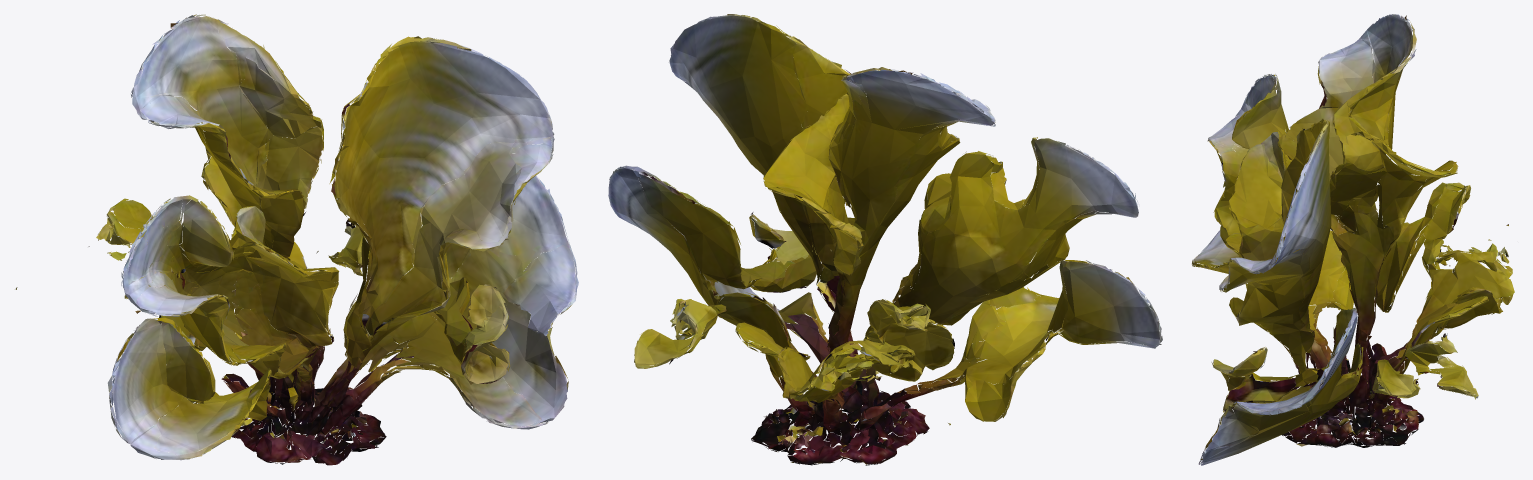
The model's file is padina.glb.
The picture shows the model from 3 angles, left to right: view 1: azimuth 30°, elevation 25°; view 2: azimuth 150°, elevation 25°; view 3: azimuth 270°, elevation 25°; orthographic projection. The views are drawn at different scales.
Visible parts, largest first — view 1: geometry_0; view 2: geometry_0; view 3: geometry_0.
Part boxes in pixels (box(x1,y1,x2,y2)): geometry_0: box(15, 14, 578, 465); geometry_0: box(608, 14, 1162, 465); geometry_0: box(1192, 14, 1514, 465).
Size of the model in its own units: 2 by 1.58 by 1.27.
1 material, 1 textured.
